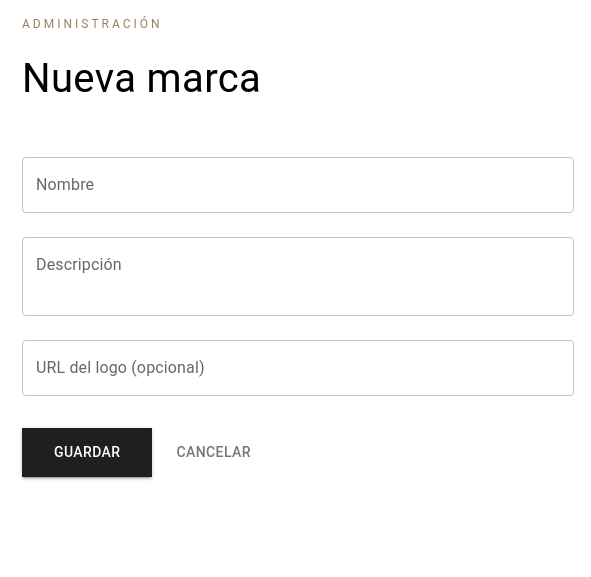
AdminBrandForm › shows the backend error message when saving fails
Type "Nueva Marca" into the field labelled "Nombre".
click(298, 185); type("Nueva Marca")  # box x1=22 y1=157 x2=574 y2=213
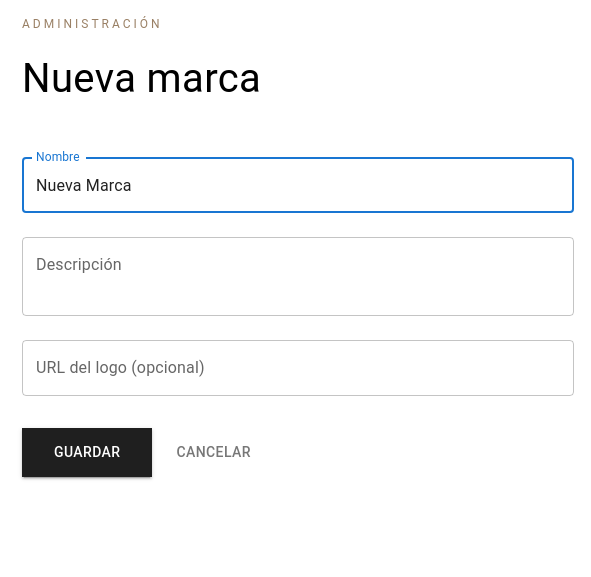
Click the button "Guardar".
click(87, 452)  # box x1=22 y1=428 x2=152 y2=476
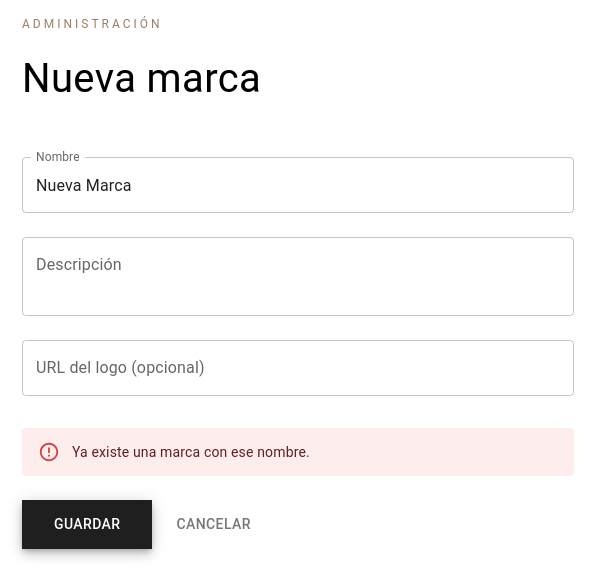
Expected: the text "Ya existe una marca con ese nombre." is shown, x1=72 y1=444 x2=310 y2=460
